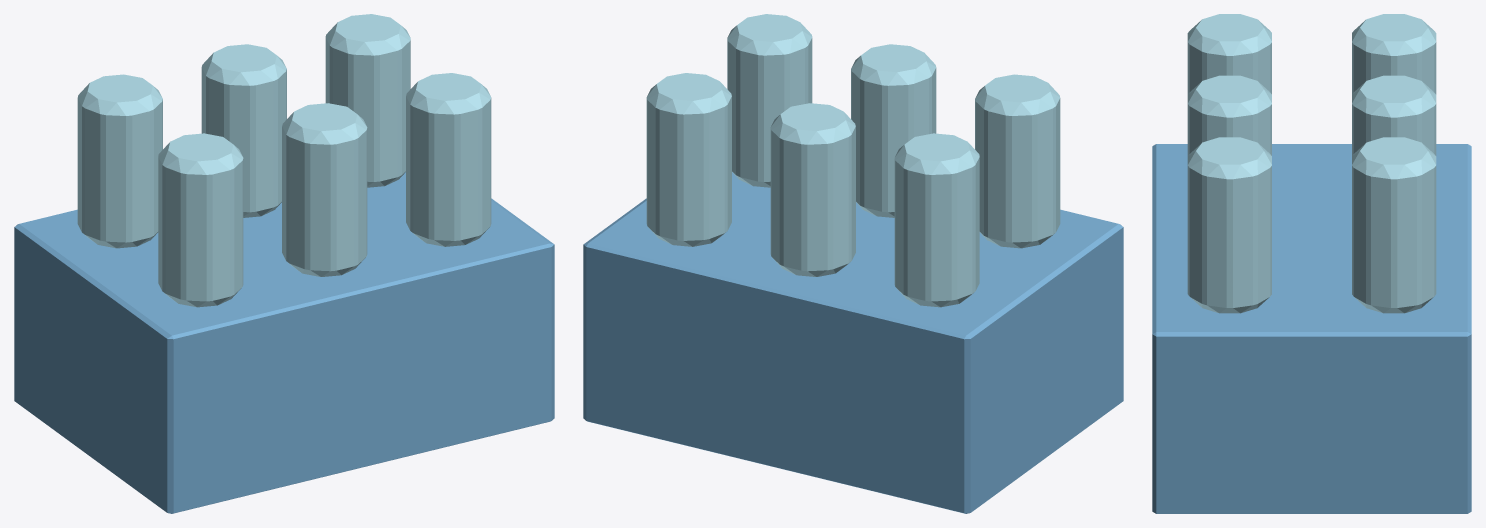
The model's file is BottleCase.glb.
3 renders of one model, left to right at view 1: azimuth 30°, elevation 25°; view 2: azimuth 150°, elevation 25°; view 3: azimuth 270°, elevation 25°, orthographic.
Visible parts, largest first — view 1: Crate, Bottle_0, Bottle_4, Bottle_2, Bottle_1, Bottle_3, Bottle_5; view 2: Crate, Bottle_1, Bottle_5, Bottle_3, Bottle_0, Bottle_2, Bottle_4; view 3: Crate, Bottle_4, Bottle_5, Bottle_2, Bottle_3, Bottle_0, Bottle_1.
Part boxes in pixels (left/top/right/bottom): Crate: left=14, top=172, right=554, bottom=513; Bottle_0: left=158, top=133, right=243, bottom=307; Bottle_4: left=406, top=73, right=491, bottom=246; Bottle_2: left=282, top=103, right=367, bottom=276; Bottle_1: left=77, top=74, right=162, bottom=248; Bottle_3: left=201, top=44, right=286, bottom=217; Bottle_5: left=325, top=14, right=410, bottom=187; Crate: left=583, top=172, right=1123, bottom=513; Bottle_1: left=894, top=133, right=979, bottom=307; Bottle_5: left=646, top=73, right=731, bottom=246; Bottle_3: left=770, top=103, right=855, bottom=276; Bottle_0: left=975, top=74, right=1060, bottom=248; Bottle_2: left=851, top=44, right=936, bottom=217; Bottle_4: left=727, top=14, right=812, bottom=187; Crate: left=1152, top=144, right=1471, bottom=513; Bottle_4: left=1187, top=137, right=1271, bottom=313; Bottle_5: left=1352, top=137, right=1436, bottom=313; Bottle_2: left=1187, top=75, right=1271, bottom=155; Bottle_3: left=1352, top=75, right=1436, bottom=155; Bottle_0: left=1187, top=14, right=1271, bottom=94; Bottle_1: left=1352, top=14, right=1436, bottom=94.
Size of the model in its own units: 0.5 by 0.4 by 0.35.
